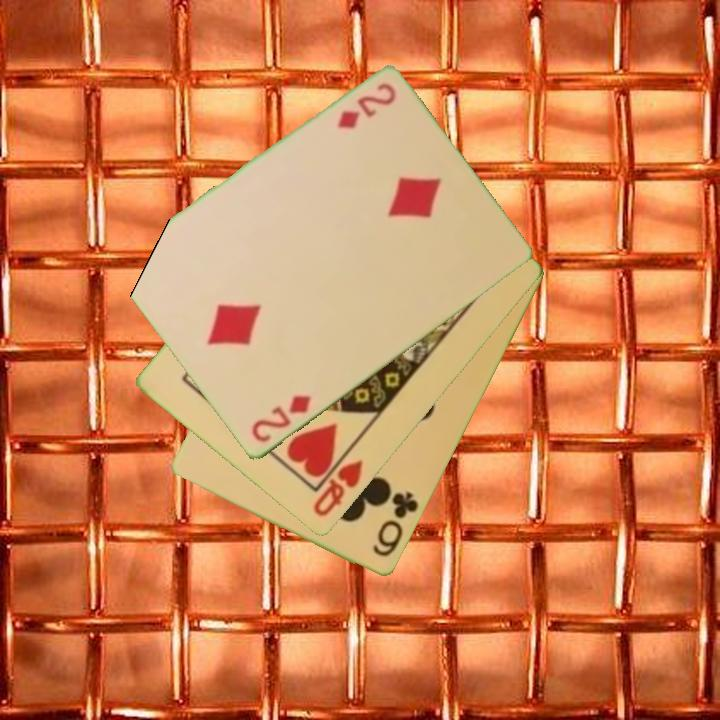2d: (247, 392, 314, 446), (333, 80, 399, 133)
6c: (369, 488, 422, 561)
Qh: (309, 456, 366, 520)
